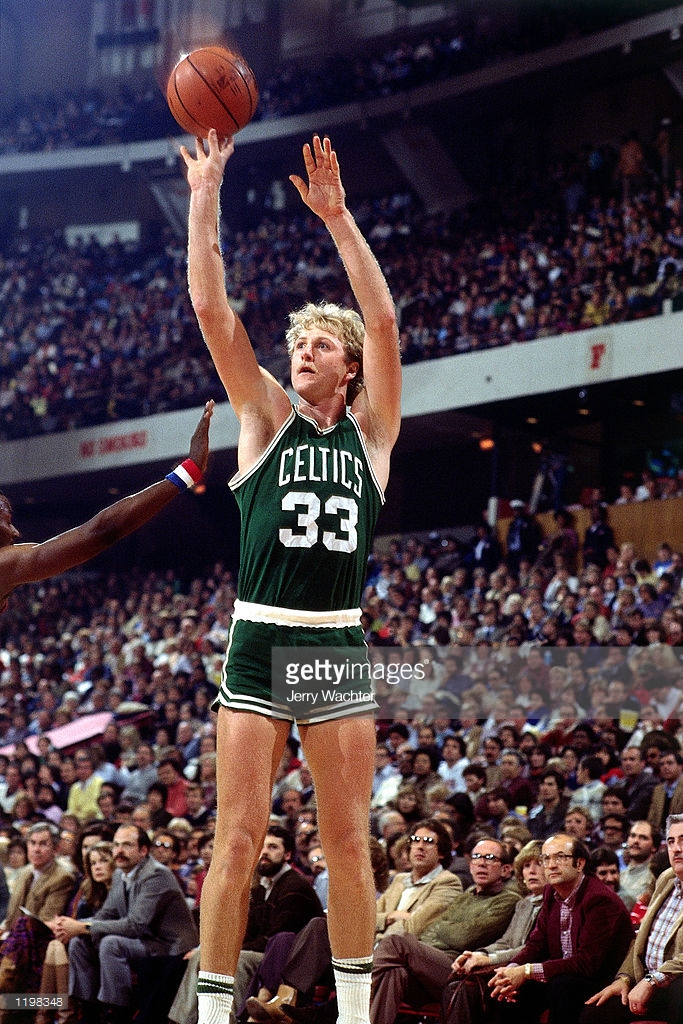ball: (167, 52, 253, 132)
player: (183, 162, 407, 1024)
